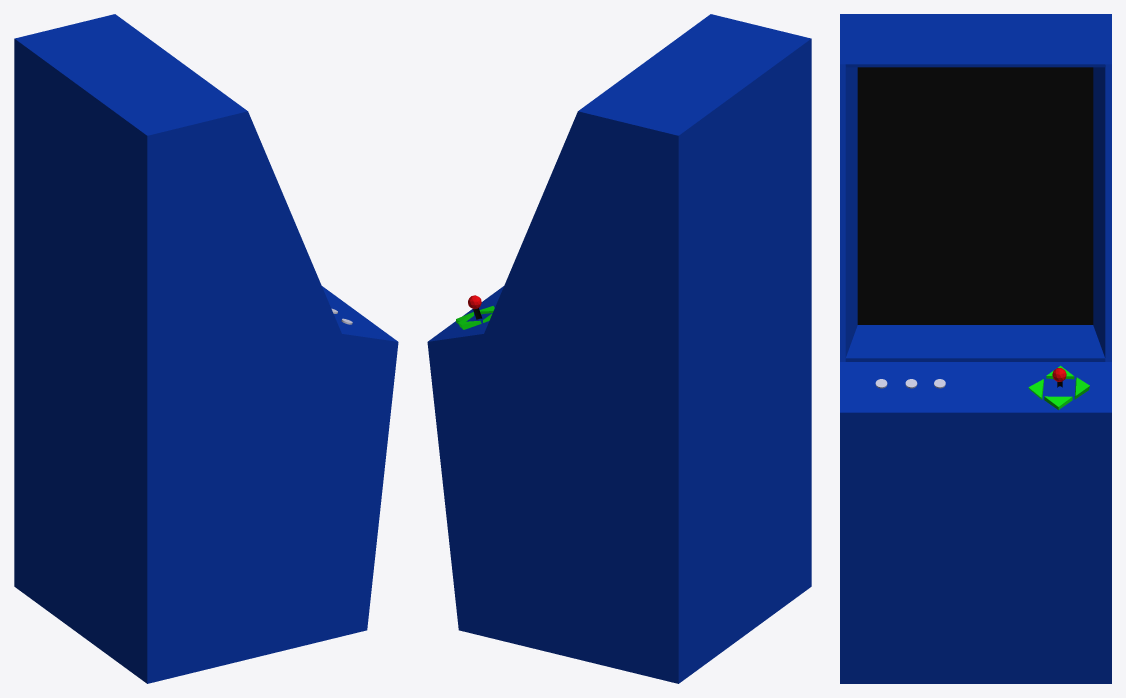
Rendered from arcadeMachine1.fbx.
3 views of the same model, side by side, from view 1: azimuth 30°, elevation 25°; view 2: azimuth 150°, elevation 25°; view 3: azimuth 270°, elevation 25° (orthographic). The views are drawn at different scales.
Visible parts, largest first — view 1: Plane; view 2: Plane; view 3: Plane.
Part boxes in pixels (x1,y1,x2,y2): Plane: (14, 14, 398, 683); Plane: (427, 14, 811, 683); Plane: (840, 14, 1111, 683).
Size of the model in its own units: 227 by 474 by 208.
